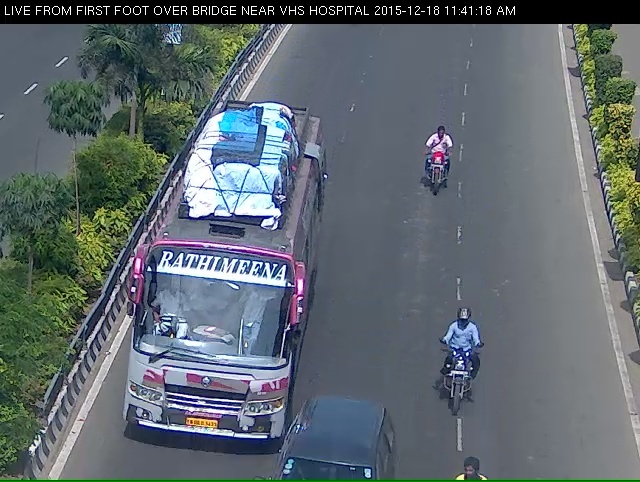Bus: (132, 123, 316, 471)
Person: (439, 342, 487, 451), (422, 136, 454, 201)
